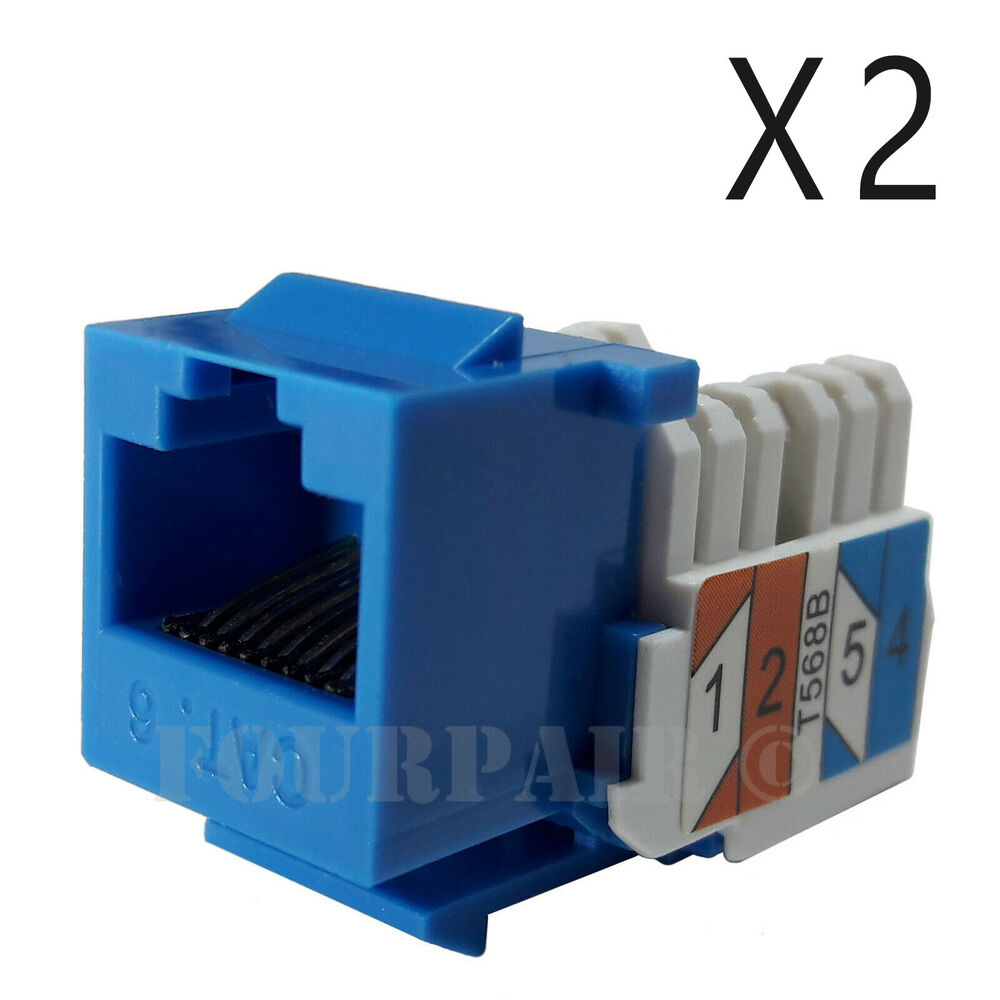lan: (90, 332, 386, 736)
